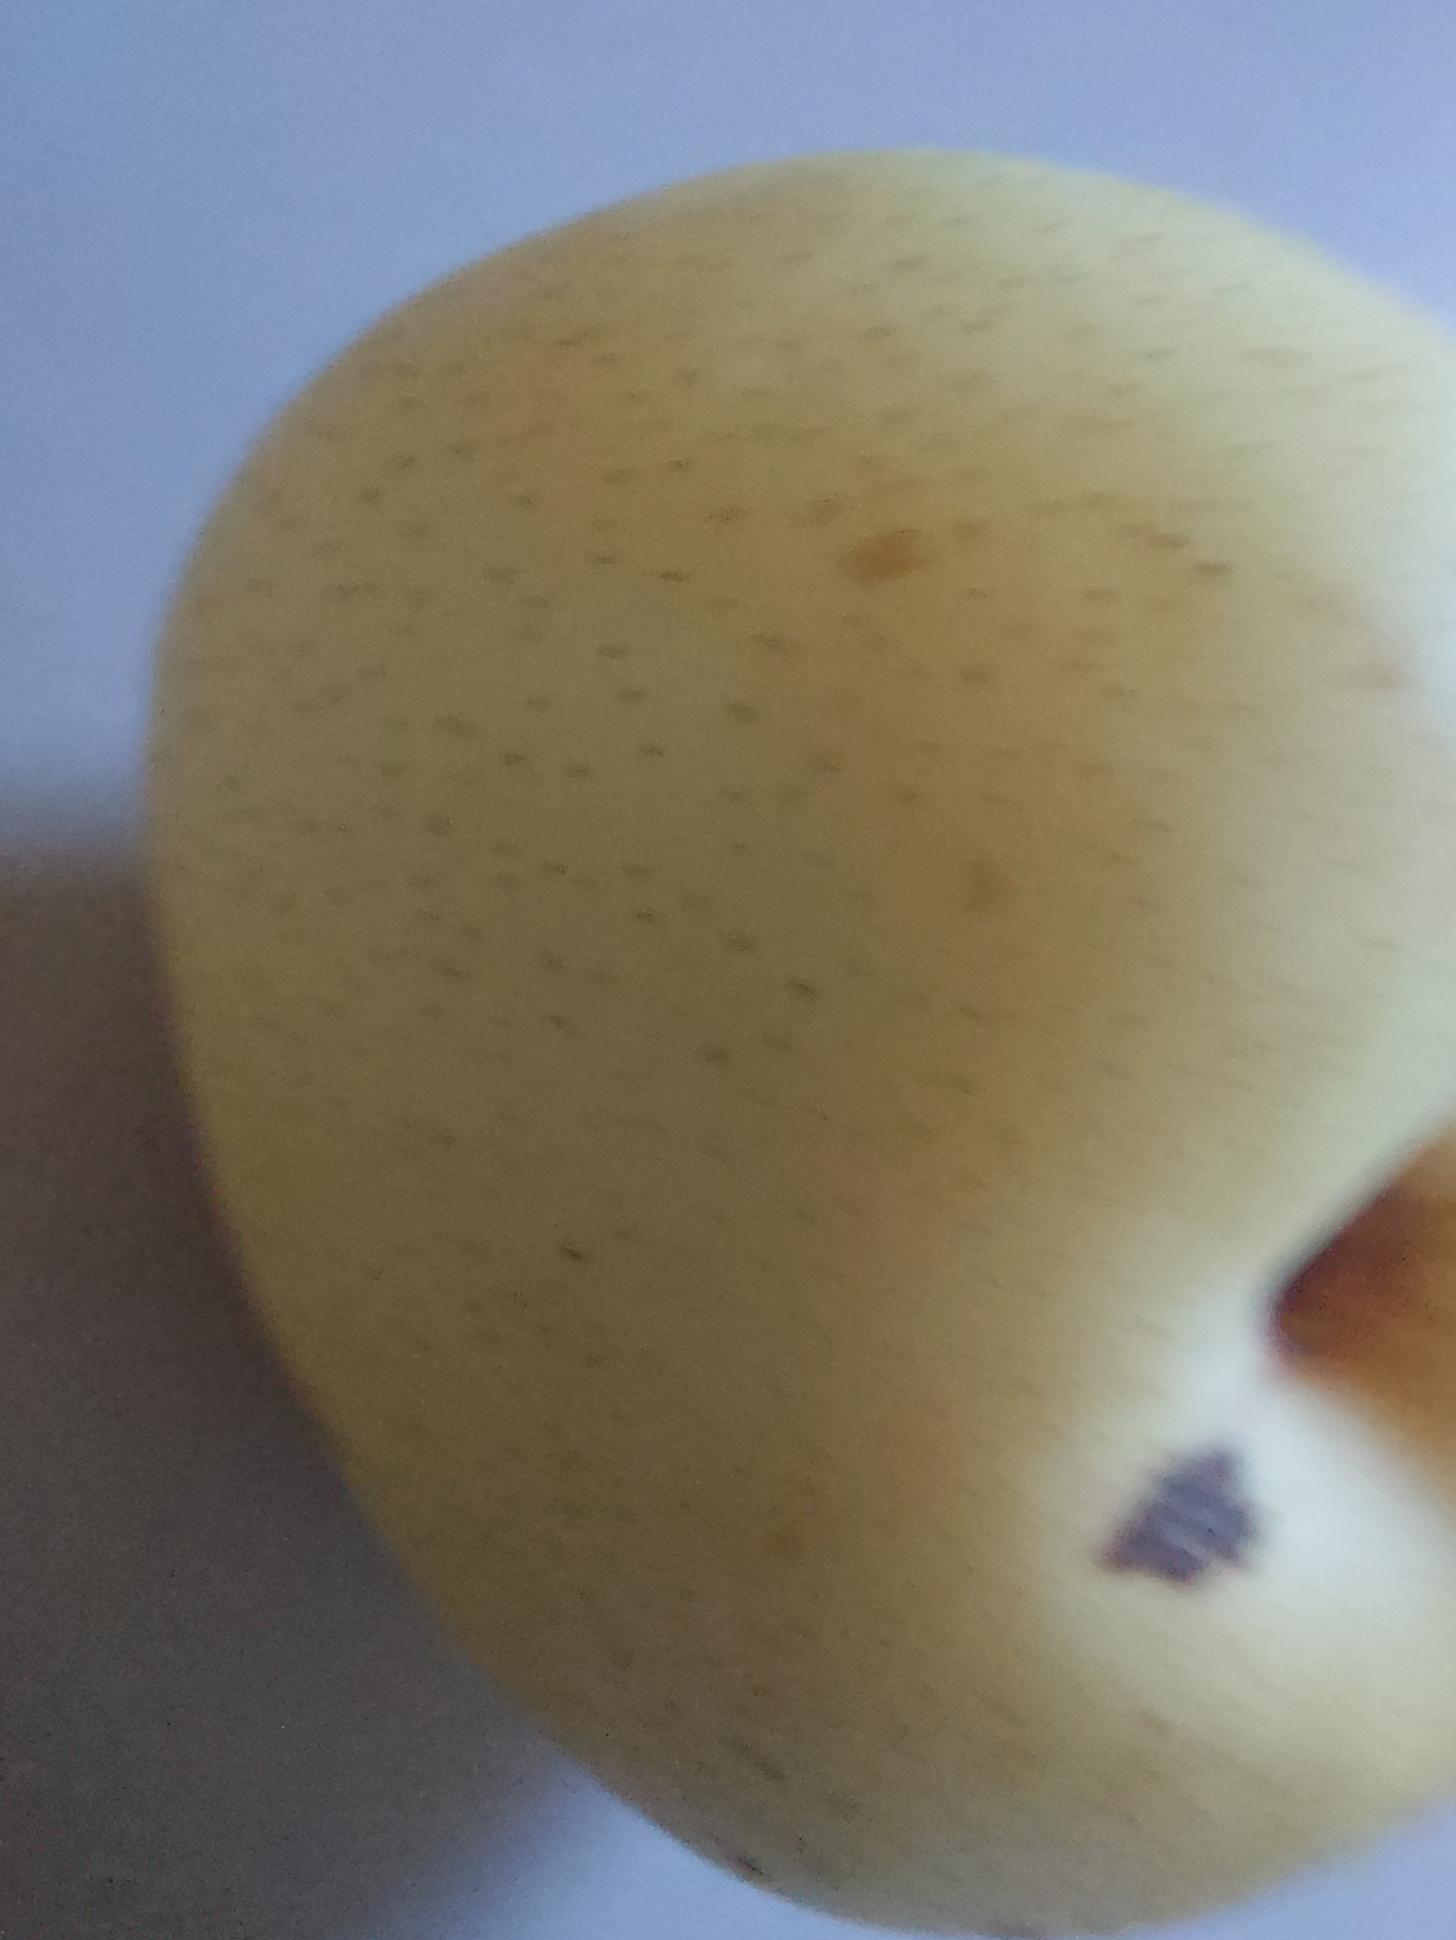Good Pear: (118, 115, 1456, 1940)
